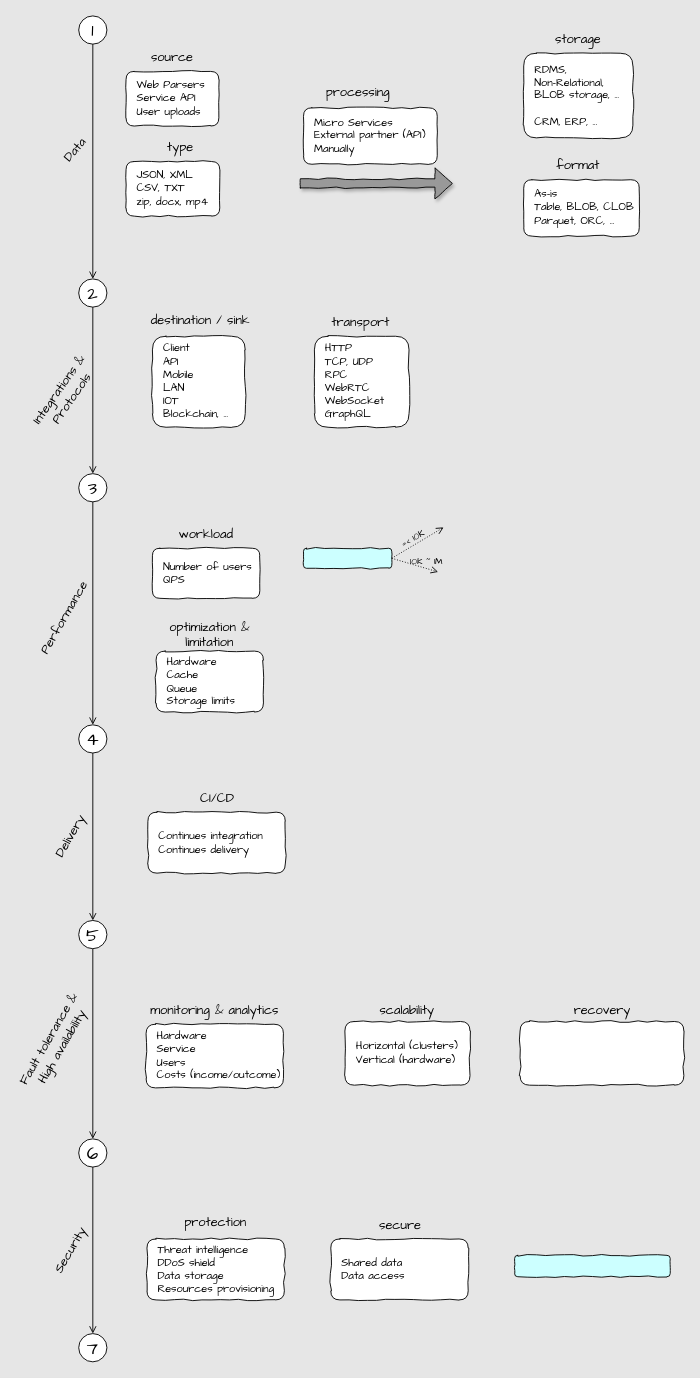
The diagram is 700 pixels wide and 1378 high, and some of its shapes have lost their labels. Each missing label, with the centre of its shape:
"Backup Replication Redundancy (LRS, ZRS, GRC)" goes at point (601, 1053).
"Impacts all previous stages" goes at point (592, 1265).
"Num. of users" goes at point (347, 557).
